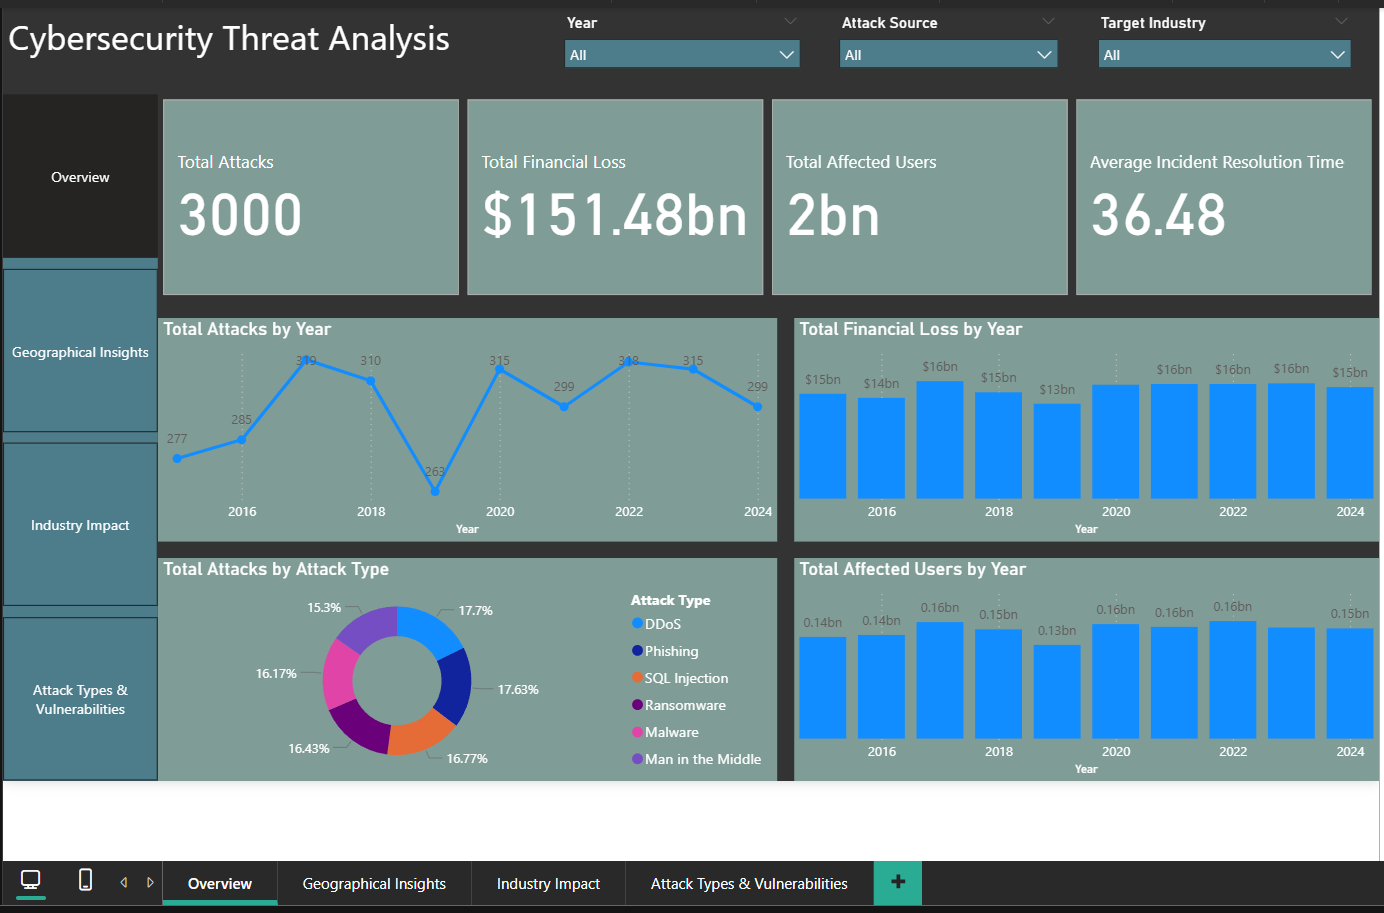

The page's visual inventory and layout, read from the dashboard file:
{"tool":"powerbi","page":{"name":"Overview","canvas":[1280,720],"ordinal":0},"visuals":[{"type":"cardVisual","fields":{"Data":["Cyber Security.Total Attacks","Cyber Security.Total Financial Loss","Cyber Security.Total Affected Users","Cyber Security.Average Incident Resolution Time"]},"box":[144,80,1136,192],"z":0},{"type":"lineChart","fields":{"Y":["Cyber Security.Total Attacks"],"Category":["Cyber Security.Year"]},"box":[144,288,576,208],"z":1000},{"type":"donutChart","fields":{"Category":["Cyber Security.Attack Type"],"Y":["Cyber Security.Total Attacks"]},"box":[144,512,576,208],"z":2000},{"type":"clusteredColumnChart","fields":{"Category":["Cyber Security.Year"],"Y":["Cyber Security.Total Financial Loss"]},"box":[736,288,544,208],"z":3000},{"type":"lineClusteredColumnComboChart","fields":{"Category":["Cyber Security.Year"],"Y":["Cyber Security.Total Affected Users"]},"box":[736,512,544,208],"z":4000},{"type":"pageNavigator","box":[0,80,144,640],"z":5000},{"type":"slicer","fields":{"Values":["Cyber Security.Year"]},"box":[512,0,240,80],"z":6000},{"type":"slicer","fields":{"Values":["Cyber Security.Attack Source"]},"box":[768,0,224,80],"z":7000},{"type":"slicer","fields":{"Values":["Cyber Security.Target Industry"]},"box":[1008,0,256,80],"z":8000},{"type":"textbox","box":[0,0,496,80],"z":9000}]}

Visuals, with their boxes on the page's 1280x720 design canvas (x1, y1, x2, y2). These are canvas units, not pixel positions in the 1384x913 screenshot, which may show the page scaled, cropped or inside an application window:
cardVisual - Cyber Security.Total Attacks x Cyber Security.Total Financial Loss: <bbox>144, 80, 1280, 272</bbox>
lineChart - Cyber Security.Total Attacks x Cyber Security.Year: <bbox>144, 288, 720, 496</bbox>
donutChart - Cyber Security.Attack Type x Cyber Security.Total Attacks: <bbox>144, 512, 720, 720</bbox>
clusteredColumnChart - Cyber Security.Year x Cyber Security.Total Financial Loss: <bbox>736, 288, 1280, 496</bbox>
lineClusteredColumnComboChart - Cyber Security.Year x Cyber Security.Total Affected Users: <bbox>736, 512, 1280, 720</bbox>
pageNavigator: <bbox>0, 80, 144, 720</bbox>
slicer - Cyber Security.Year: <bbox>512, 0, 752, 80</bbox>
slicer - Cyber Security.Attack Source: <bbox>768, 0, 992, 80</bbox>
slicer - Cyber Security.Target Industry: <bbox>1008, 0, 1264, 80</bbox>
textbox: <bbox>0, 0, 496, 80</bbox>
